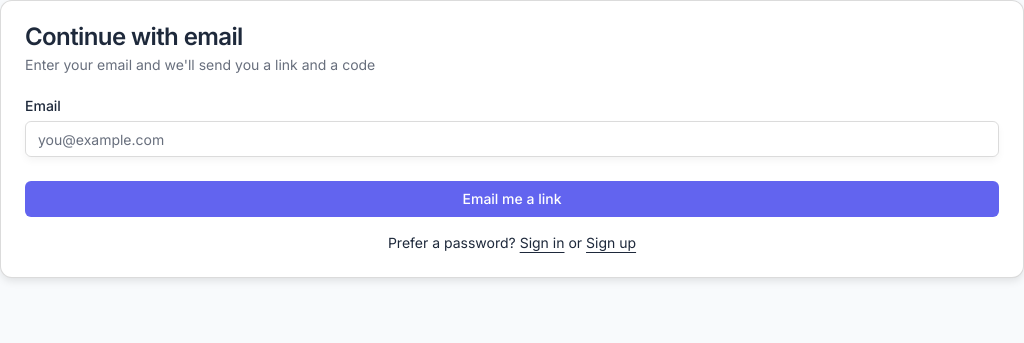
Scenario: SignInLinkForm › should show rate-limit copy when send is throttled
This screenshot has width=1024, height=343.
Type "test@example.com" into the field labelled "Email".
click(512, 139); type("test@example.com")  # box top-left (25, 121), bottom-right (999, 157)
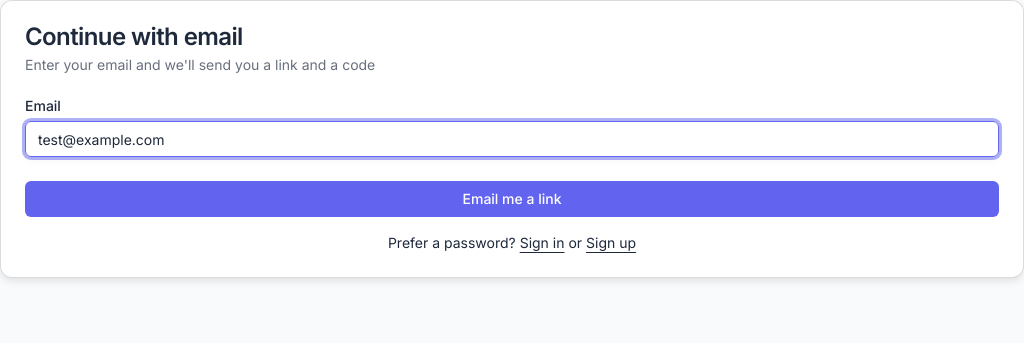
Click the button "Email me a link".
click(512, 199)  # box top-left (25, 181), bottom-right (999, 217)
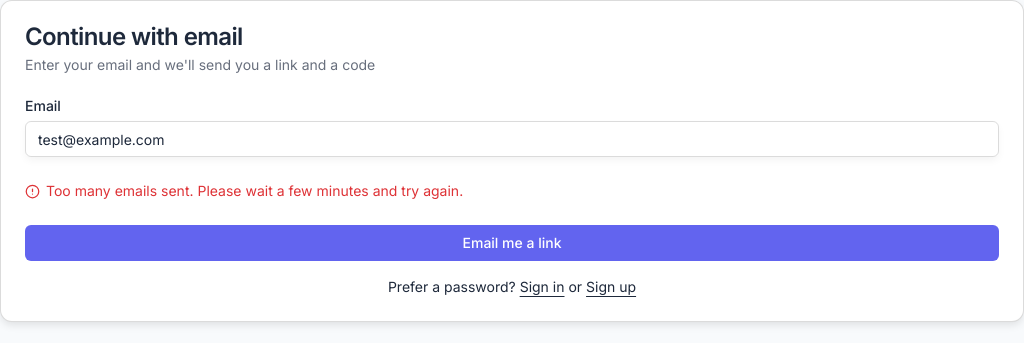
Result: the text "Too many emails sent. Please wait a few minutes and try again." is shown at top-left (25, 182), bottom-right (463, 199)
